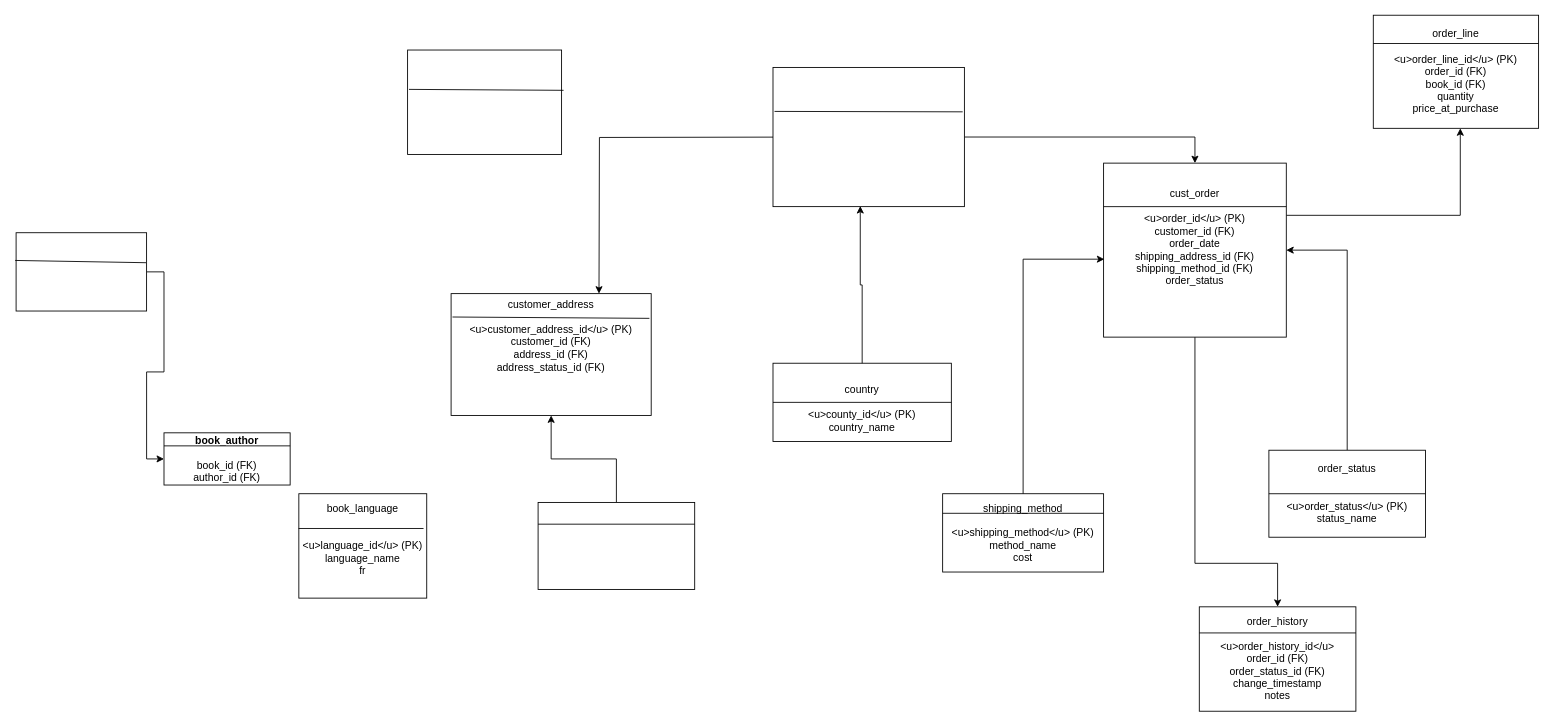
Image size: 1556x726. Some labels were removed from this diagram. Each missing label, with the centre of its shape:
"address <u>address_id</u> (PK) street_address city postal_code country_id (FK)" goes at [868,137].
"address_status <u>address_status_id</u> (PK) status_name" goes at [616,545].
"author <u>author_id</u> (PK) first_name last_name" goes at [81,271].
"publisher <u>publisher_id</u> publisher_name" goes at [484,101].
